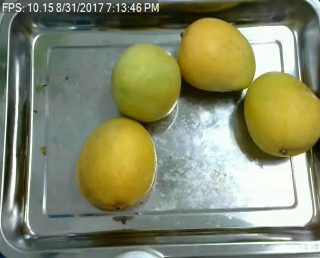Mango: (74, 118, 156, 210), (240, 69, 320, 159), (175, 17, 259, 89), (110, 41, 182, 123)
